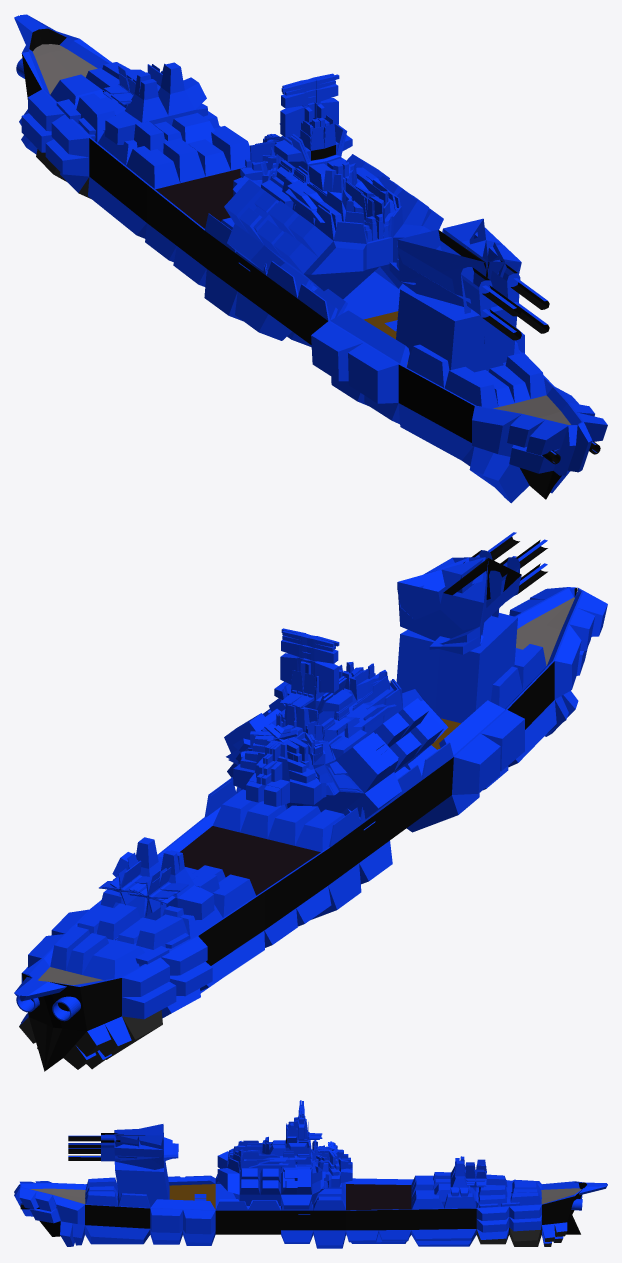
The model's file is blue5.fbx.
The picture shows the model from 3 angles, top to bottom: view 1: azimuth 30°, elevation 25°; view 2: azimuth 150°, elevation 25°; view 3: azimuth 270°, elevation 25°; orthographic projection. The views are drawn at different scales.
Parts seen in each view (by area): view 1: discombobulated_mesh.004, Cube, discombobulated_mesh.003, Cube.005, discombobulated_mesh.001, discombobulated_mesh.007, discombobulated_mesh.002, discombobulated_mesh, Cube.002, discombobulated_mesh.006, Cube.001; view 2: discombobulated_mesh.004, Cube, discombobulated_mesh.003, Cube.005, discombobulated_mesh.001, discombobulated_mesh.002, Cube.002, discombobulated_mesh, discombobulated_mesh.006, discombobulated_mesh.007, Cube.001; view 3: Cube, discombobulated_mesh.004, discombobulated_mesh.003, Cube.005, discombobulated_mesh.001, discombobulated_mesh.002, Cube.002, discombobulated_mesh.007, discombobulated_mesh, discombobulated_mesh.006, Cube.001.
Part boxes in pixels (<box>): discombobulated_mesh.004: <box>205,73,443,367</box>; Cube: <box>17,73,599,499</box>; discombobulated_mesh.003: <box>88,177,579,503</box>; Cube.005: <box>396,229,549,372</box>; discombobulated_mesh.001: <box>50,62,250,189</box>; discombobulated_mesh.007: <box>507,403,607,475</box>; discombobulated_mesh.002: <box>19,69,207,198</box>; discombobulated_mesh: <box>105,62,214,153</box>; Cube.002: <box>14,14,111,99</box>; discombobulated_mesh.006: <box>389,218,521,284</box>; Cube.001: <box>100,84,194,125</box>; discombobulated_mesh.004: <box>204,628,505,847</box>; Cube: <box>42,556,583,1018</box>; discombobulated_mesh.003: <box>200,613,581,993</box>; Cube.005: <box>396,532,547,723</box>; discombobulated_mesh.001: <box>50,852,255,979</box>; discombobulated_mesh.002: <box>19,909,212,1069</box>; Cube.002: <box>14,958,121,1071</box>; discombobulated_mesh: <box>112,837,219,920</box>; discombobulated_mesh.006: <box>398,557,485,654</box>; discombobulated_mesh.007: <box>509,587,607,675</box>; Cube.001: <box>90,862,194,949</box>; Cube: <box>18,1111,581,1236</box>; discombobulated_mesh.004: <box>151,1100,352,1214</box>; discombobulated_mesh.003: <box>53,1175,476,1248</box>; Cube.005: <box>68,1124,169,1207</box>; discombobulated_mesh.001: <box>411,1159,541,1209</box>; discombobulated_mesh.002: <box>476,1179,567,1246</box>; Cube.002: <box>541,1181,607,1234</box>; discombobulated_mesh.007: <box>14,1181,60,1223</box>; discombobulated_mesh: <box>433,1156,476,1201</box>; discombobulated_mesh.006: <box>114,1135,178,1161</box>; Cube.001: <box>441,1166,512,1206</box>.
Bounding box in the file's own units: 281 × 411 × 1618.
